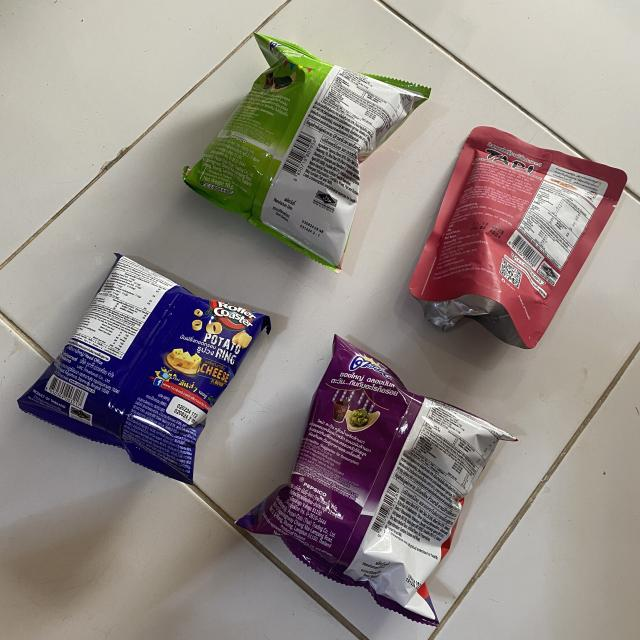plastik: (238, 335, 515, 625), (184, 34, 430, 270), (18, 254, 270, 484), (410, 126, 626, 349)
